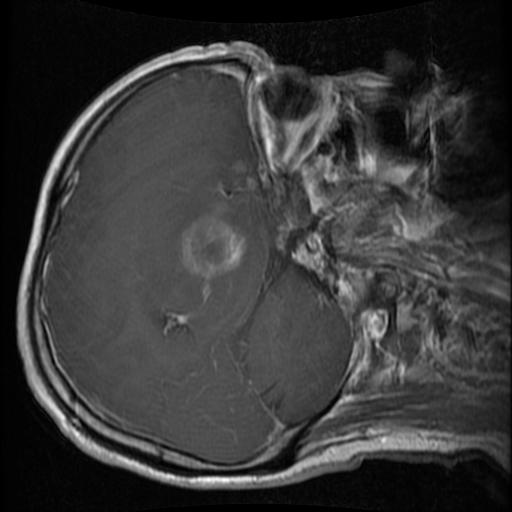glioma: (180, 160, 257, 283)
